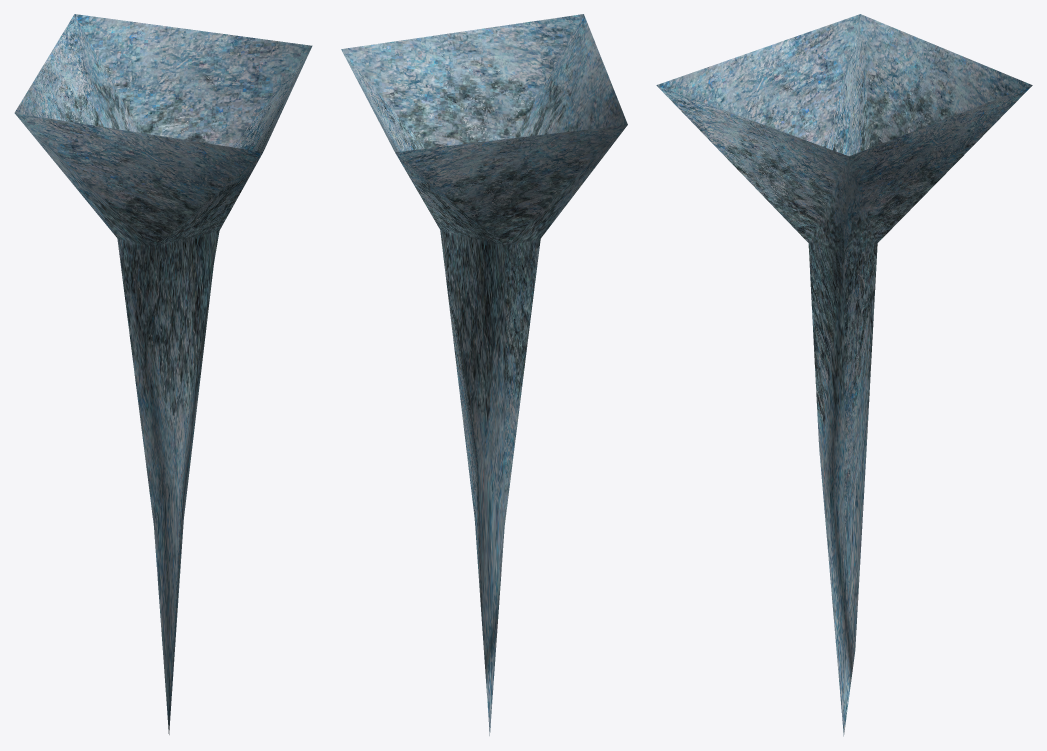
Rendered from thm_all_cave_stalagtite_ice_a3_l2.fbx.
3 views of the same model, side by side, from view 1: azimuth 30°, elevation 25°; view 2: azimuth 150°, elevation 25°; view 3: azimuth 270°, elevation 25° (orthographic).
Visible parts, largest first — view 1: mesh_node; view 2: mesh_node; view 3: mesh_node.
Boxes of the visible parts, box(x1,y1,x2,y2) form: mesh_node: box(14, 14, 312, 734); mesh_node: box(341, 14, 627, 735); mesh_node: box(656, 14, 1032, 736).
Bounding box in the file's own units: 1.23 × 2.62 × 1.37.
